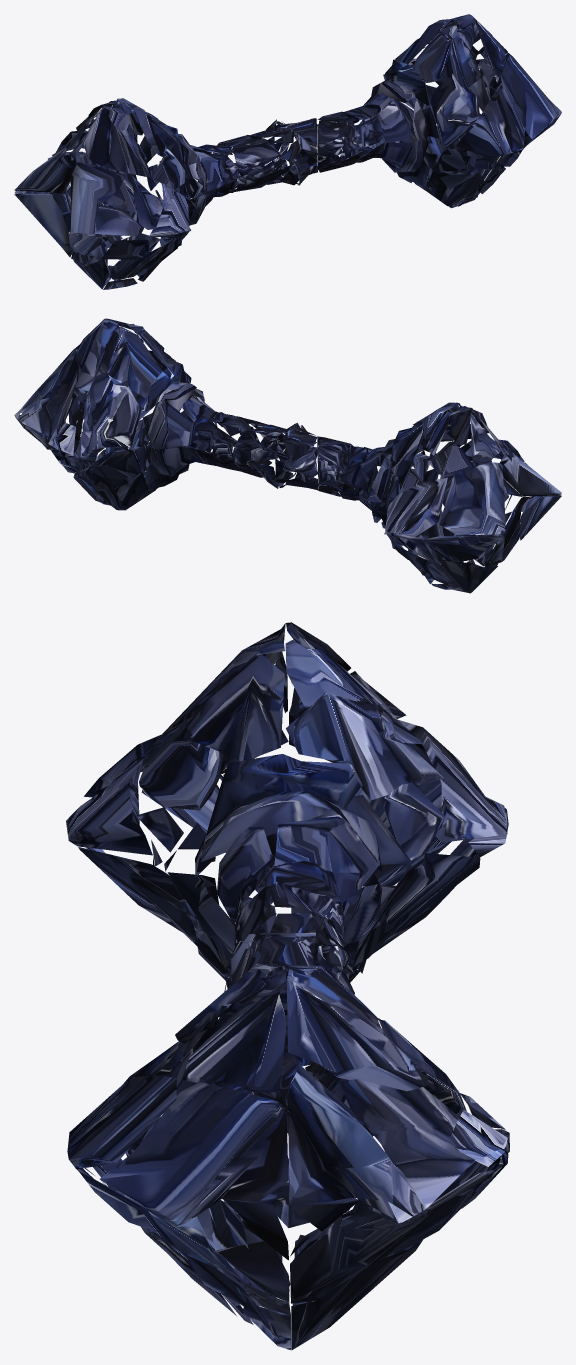
File: MAHWORLD_GYM_DUMBBELL_L2.glb
3 renders of one model, top to bottom at view 1: azimuth 30°, elevation 25°; view 2: azimuth 150°, elevation 25°; view 3: azimuth 270°, elevation 25°, orthographic. The views are drawn at different scales.
Parts seen in each view (by area): view 1: MAHWORLD_GYM_DUMBBELL_L2; view 2: MAHWORLD_GYM_DUMBBELL_L2; view 3: MAHWORLD_GYM_DUMBBELL_L2.
Boxes of the visible parts, <box> form: MAHWORLD_GYM_DUMBBELL_L2: <box>14,14,561,289</box>; MAHWORLD_GYM_DUMBBELL_L2: <box>14,318,561,593</box>; MAHWORLD_GYM_DUMBBELL_L2: <box>66,622,509,1350</box>.
Size of the model in its own units: 0.981 by 0.3541 by 0.3835.
Materials: 1 (1 with a texture image).
